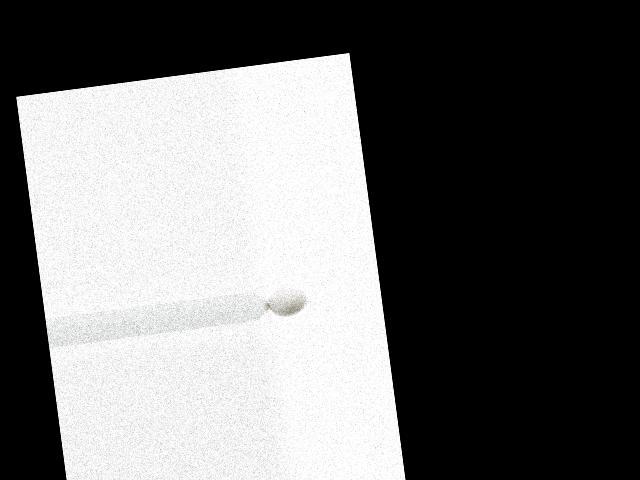egg: (266, 285, 309, 318)
